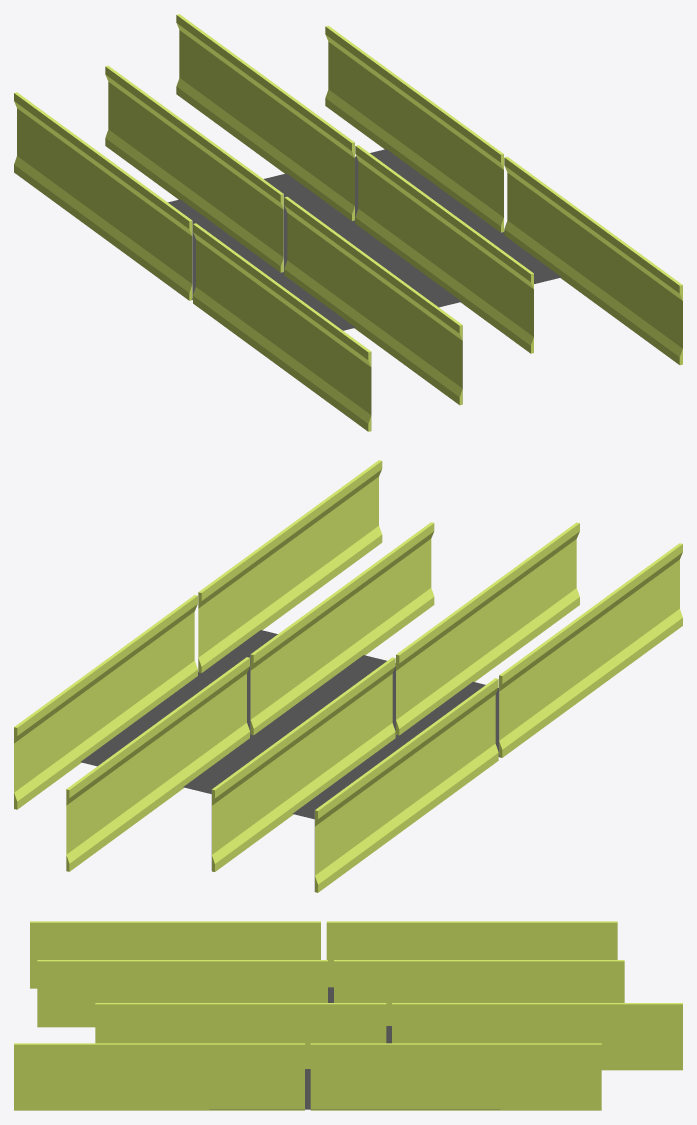
The model's file is Narrow_gap.dae.
3 views of the same model, one above another, from view 1: azimuth 30°, elevation 25°; view 2: azimuth 150°, elevation 25°; view 3: azimuth 270°, elevation 25° (orthographic). The views are drawn at different scales.
Visible parts, largest first — view 1: node_24247b90_3d94_4be2_b78d_bcce62e51d9d_mesh3, node_24247b90_3d94_4be2_b78d_bcce62e51d9d_mesh4, node_24247b90_3d94_4be2_b78d_bcce62e51d9d_mesh0, node_24247b90_3d94_4be2_b78d_bcce62e51d9d_mesh5, node_24247b90_3d94_4be2_b78d_bcce62e51d9d_mesh1, node_24247b90_3d94_4be2_b78d_bcce62e51d9d_mesh6, node_24247b90_3d94_4be2_b78d_bcce62e51d9d_mesh8, node_24247b90_3d94_4be2_b78d_bcce62e51d9d_mesh7, node_24247b90_3d94_4be2_b78d_bcce62e51d9d_mesh2; view 2: node_24247b90_3d94_4be2_b78d_bcce62e51d9d_mesh3, node_24247b90_3d94_4be2_b78d_bcce62e51d9d_mesh4, node_24247b90_3d94_4be2_b78d_bcce62e51d9d_mesh0, node_24247b90_3d94_4be2_b78d_bcce62e51d9d_mesh8, node_24247b90_3d94_4be2_b78d_bcce62e51d9d_mesh1, node_24247b90_3d94_4be2_b78d_bcce62e51d9d_mesh6, node_24247b90_3d94_4be2_b78d_bcce62e51d9d_mesh5, node_24247b90_3d94_4be2_b78d_bcce62e51d9d_mesh7, node_24247b90_3d94_4be2_b78d_bcce62e51d9d_mesh2; view 3: node_24247b90_3d94_4be2_b78d_bcce62e51d9d_mesh7, node_24247b90_3d94_4be2_b78d_bcce62e51d9d_mesh0, node_24247b90_3d94_4be2_b78d_bcce62e51d9d_mesh1, node_24247b90_3d94_4be2_b78d_bcce62e51d9d_mesh5, node_24247b90_3d94_4be2_b78d_bcce62e51d9d_mesh8, node_24247b90_3d94_4be2_b78d_bcce62e51d9d_mesh6, node_24247b90_3d94_4be2_b78d_bcce62e51d9d_mesh4, node_24247b90_3d94_4be2_b78d_bcce62e51d9d_mesh3, node_24247b90_3d94_4be2_b78d_bcce62e51d9d_mesh2.
Part boxes in pixels (x1,y1,x2,y2): node_24247b90_3d94_4be2_b78d_bcce62e51d9d_mesh3: [14, 92, 192, 300]; node_24247b90_3d94_4be2_b78d_bcce62e51d9d_mesh4: [193, 223, 371, 431]; node_24247b90_3d94_4be2_b78d_bcce62e51d9d_mesh0: [504, 156, 682, 365]; node_24247b90_3d94_4be2_b78d_bcce62e51d9d_mesh5: [284, 196, 462, 405]; node_24247b90_3d94_4be2_b78d_bcce62e51d9d_mesh1: [176, 14, 354, 220]; node_24247b90_3d94_4be2_b78d_bcce62e51d9d_mesh6: [355, 145, 533, 353]; node_24247b90_3d94_4be2_b78d_bcce62e51d9d_mesh8: [105, 65, 283, 272]; node_24247b90_3d94_4be2_b78d_bcce62e51d9d_mesh7: [325, 25, 503, 232]; node_24247b90_3d94_4be2_b78d_bcce62e51d9d_mesh2: [168, 149, 561, 330]; node_24247b90_3d94_4be2_b78d_bcce62e51d9d_mesh3: [314, 678, 498, 892]; node_24247b90_3d94_4be2_b78d_bcce62e51d9d_mesh4: [499, 543, 682, 757]; node_24247b90_3d94_4be2_b78d_bcce62e51d9d_mesh0: [198, 460, 382, 673]; node_24247b90_3d94_4be2_b78d_bcce62e51d9d_mesh8: [211, 657, 395, 871]; node_24247b90_3d94_4be2_b78d_bcce62e51d9d_mesh1: [66, 657, 249, 871]; node_24247b90_3d94_4be2_b78d_bcce62e51d9d_mesh6: [250, 522, 434, 735]; node_24247b90_3d94_4be2_b78d_bcce62e51d9d_mesh5: [396, 522, 579, 735]; node_24247b90_3d94_4be2_b78d_bcce62e51d9d_mesh7: [14, 595, 197, 809]; node_24247b90_3d94_4be2_b78d_bcce62e51d9d_mesh2: [80, 630, 499, 819]; node_24247b90_3d94_4be2_b78d_bcce62e51d9d_mesh7: [310, 1043, 601, 1110]; node_24247b90_3d94_4be2_b78d_bcce62e51d9d_mesh0: [14, 1043, 304, 1110]; node_24247b90_3d94_4be2_b78d_bcce62e51d9d_mesh1: [392, 1003, 682, 1070]; node_24247b90_3d94_4be2_b78d_bcce62e51d9d_mesh5: [37, 960, 327, 1027]; node_24247b90_3d94_4be2_b78d_bcce62e51d9d_mesh8: [334, 960, 624, 1025]; node_24247b90_3d94_4be2_b78d_bcce62e51d9d_mesh6: [95, 1003, 386, 1068]; node_24247b90_3d94_4be2_b78d_bcce62e51d9d_mesh4: [30, 921, 320, 988]; node_24247b90_3d94_4be2_b78d_bcce62e51d9d_mesh3: [326, 921, 617, 987]; node_24247b90_3d94_4be2_b78d_bcce62e51d9d_mesh2: [209, 987, 499, 1109].
Size of the model in its own units: 5030 by 1250 by 11500.
